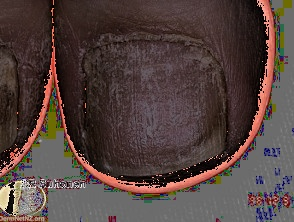Nail_psoriasis: (63, 15, 241, 196), (0, 37, 51, 179)
